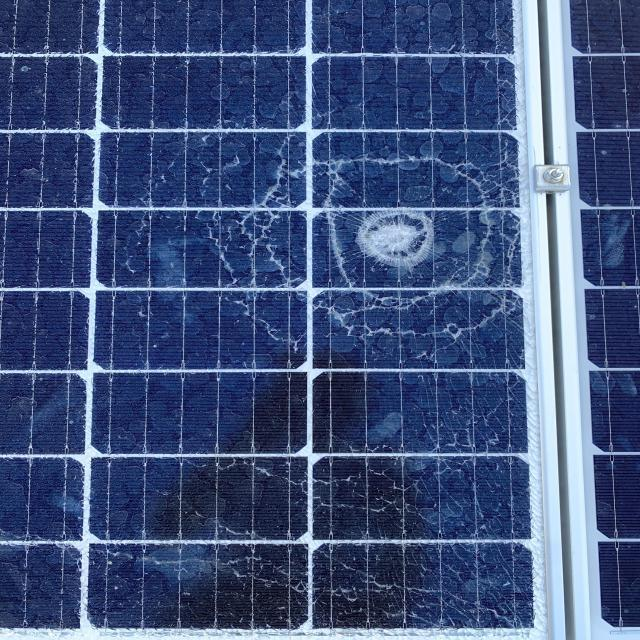Physical-damage: (307, 159, 519, 357)
